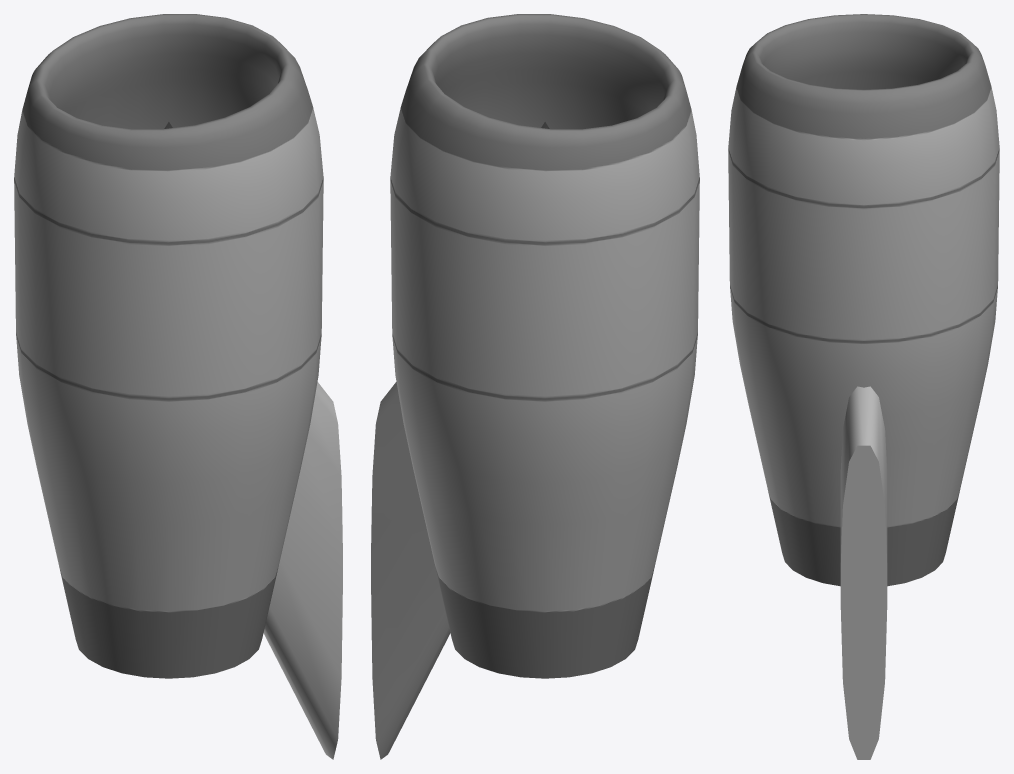
The model's file is krent700.fbx.
3 renders of one model, left to right at view 1: azimuth 30°, elevation 25°; view 2: azimuth 150°, elevation 25°; view 3: azimuth 270°, elevation 25°, orthographic. The views are drawn at different scales.
Parts seen in each view (by area): view 1: krent-700, attachment; view 2: krent-700, attachment; view 3: krent-700, attachment.
Part boxes in pixels (box(x1,y1,x2,y2)): krent-700: box(14, 14, 323, 678); attachment: box(263, 382, 342, 759); krent-700: box(390, 14, 699, 678); attachment: box(371, 382, 450, 759); krent-700: box(728, 14, 999, 586); attachment: box(840, 386, 887, 759).
Size of what is drawn, in the model's own units: 3.01 by 7.17 by 2.74.
Materials: 1 (1 with a texture image).
